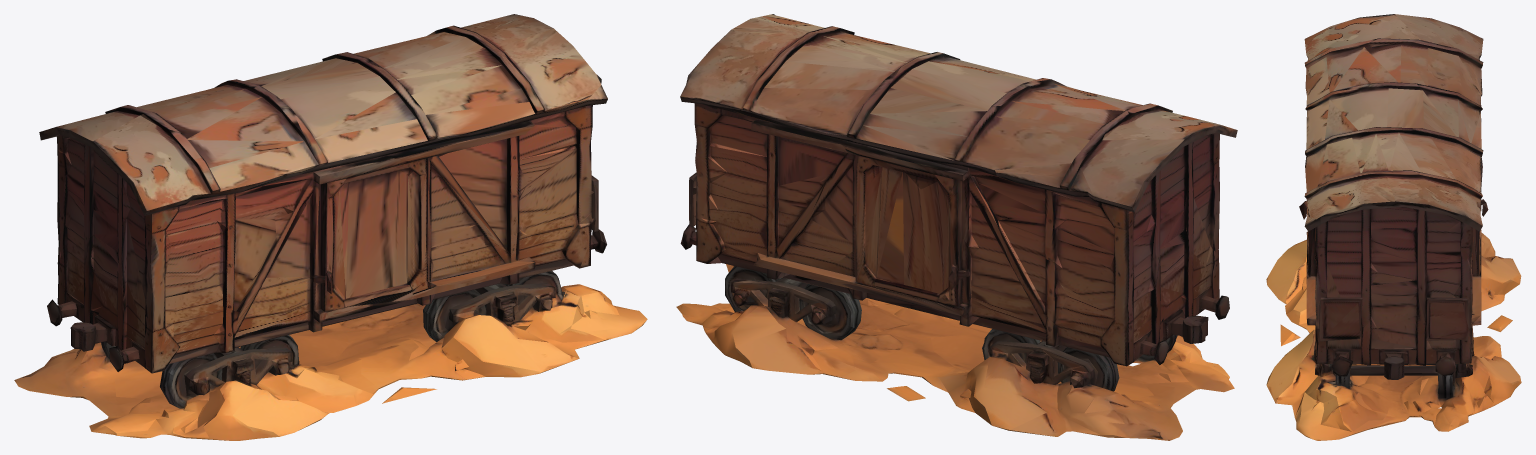
Rendered from wl_wagon.glb.
The picture shows the model from 3 angles, left to right: view 1: azimuth 30°, elevation 25°; view 2: azimuth 150°, elevation 25°; view 3: azimuth 270°, elevation 25°; orthographic projection. The views are drawn at different scales.
Visible parts, largest first — view 1: wl_wagon; view 2: wl_wagon; view 3: wl_wagon.
Boxes of the visible parts, x1,y1,x2,y2 form: wl_wagon: [14, 14, 647, 440]; wl_wagon: [676, 14, 1237, 440]; wl_wagon: [1266, 14, 1521, 440].
Size of the model in its own units: 7.17 by 3.4 by 3.51.
1 material, 1 textured.
